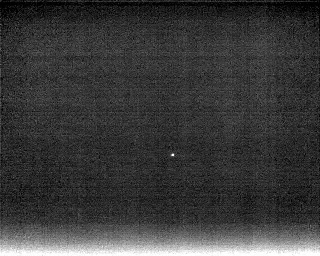BIRD: (169, 150, 177, 161)
